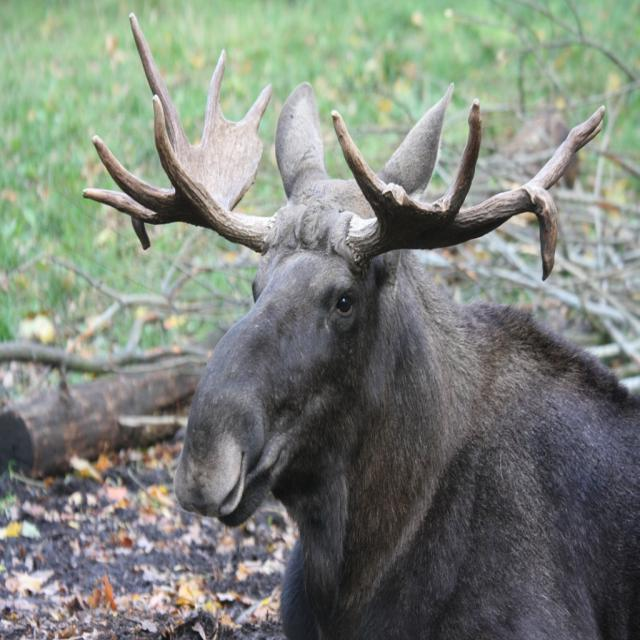Deer: (82, 12, 640, 640)
